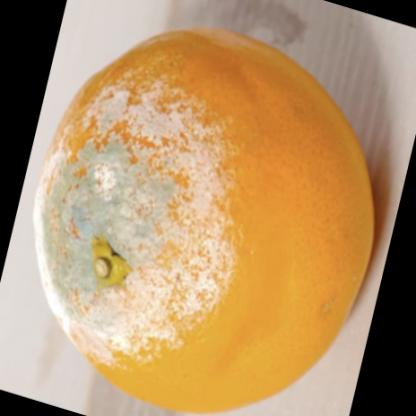rotten: (37, 28, 377, 412)
